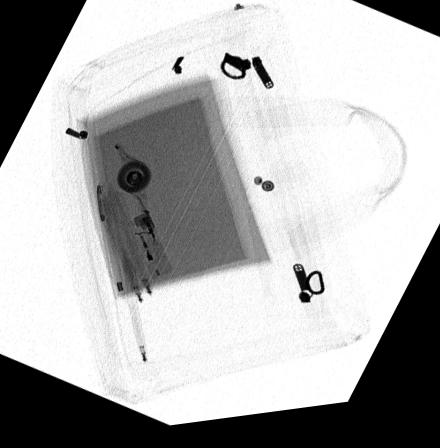Lighter: (133, 216, 173, 280)
